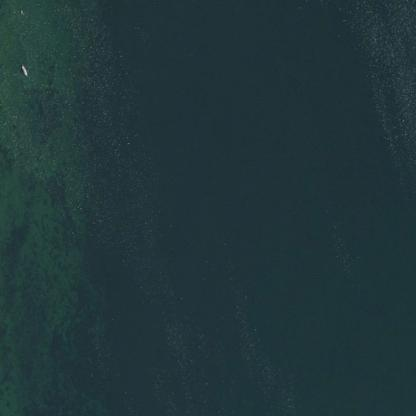ship: (14, 57, 33, 81)
